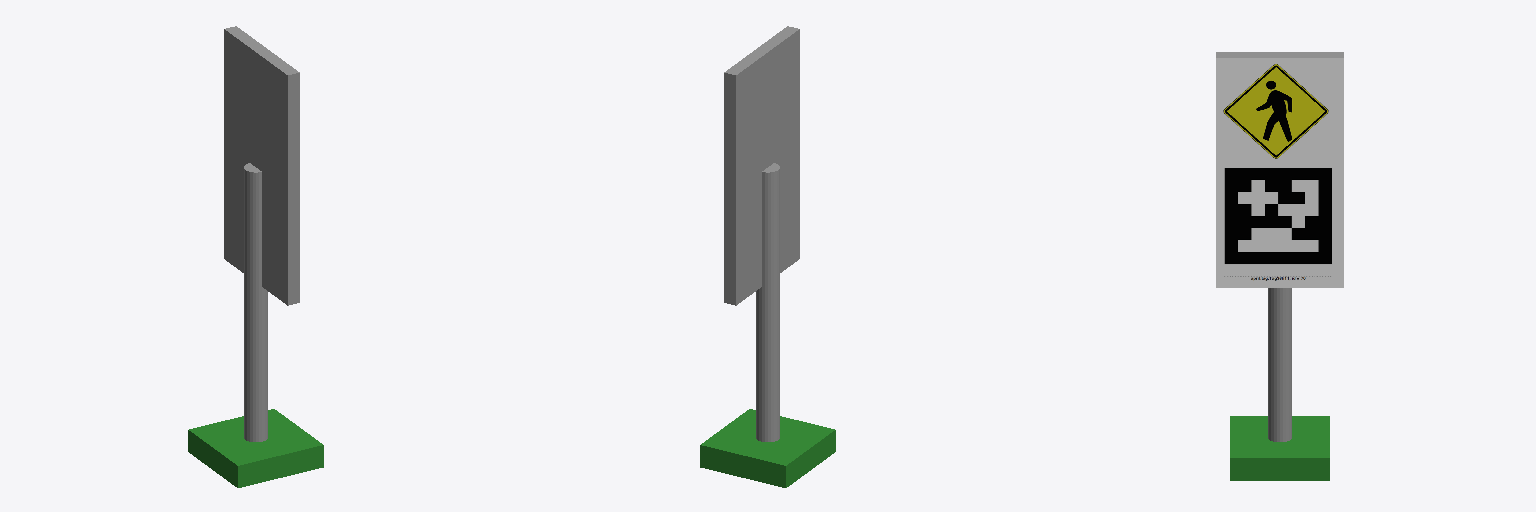
The picture shows the model from 3 angles: view 1: azimuth 30°, elevation 25°; view 2: azimuth 150°, elevation 25°; view 3: azimuth 270°, elevation 25°; orthographic projection.
Parts seen in each view (by area): view 1: SketchUp.002_ID23, SketchUp_ID2, SketchUp.001_ID10; view 2: SketchUp.002_ID23, SketchUp_ID2, SketchUp.001_ID10; view 3: SketchUp.003_ID31, SketchUp_ID2, SketchUp.001_ID10, SketchUp.002_ID23.
Part boxes in pixels (left/top/right/bottom): SketchUp.002_ID23: left=224, top=26, right=299, bottom=305; SketchUp_ID2: left=188, top=409, right=323, bottom=487; SketchUp.001_ID10: left=244, top=163, right=267, bottom=441; SketchUp.002_ID23: left=724, top=26, right=799, bottom=305; SketchUp_ID2: left=700, top=409, right=835, bottom=487; SketchUp.001_ID10: left=756, top=163, right=779, bottom=441; SketchUp.003_ID31: left=1216, top=58, right=1343, bottom=287; SketchUp_ID2: left=1230, top=416, right=1329, bottom=480; SketchUp.001_ID10: left=1268, top=288, right=1291, bottom=441; SketchUp.002_ID23: left=1216, top=52, right=1343, bottom=57.
Bounding box in the file's own units: 0.0508 × 0.2301 × 0.065.
Materials: 3 (1 with a texture image).